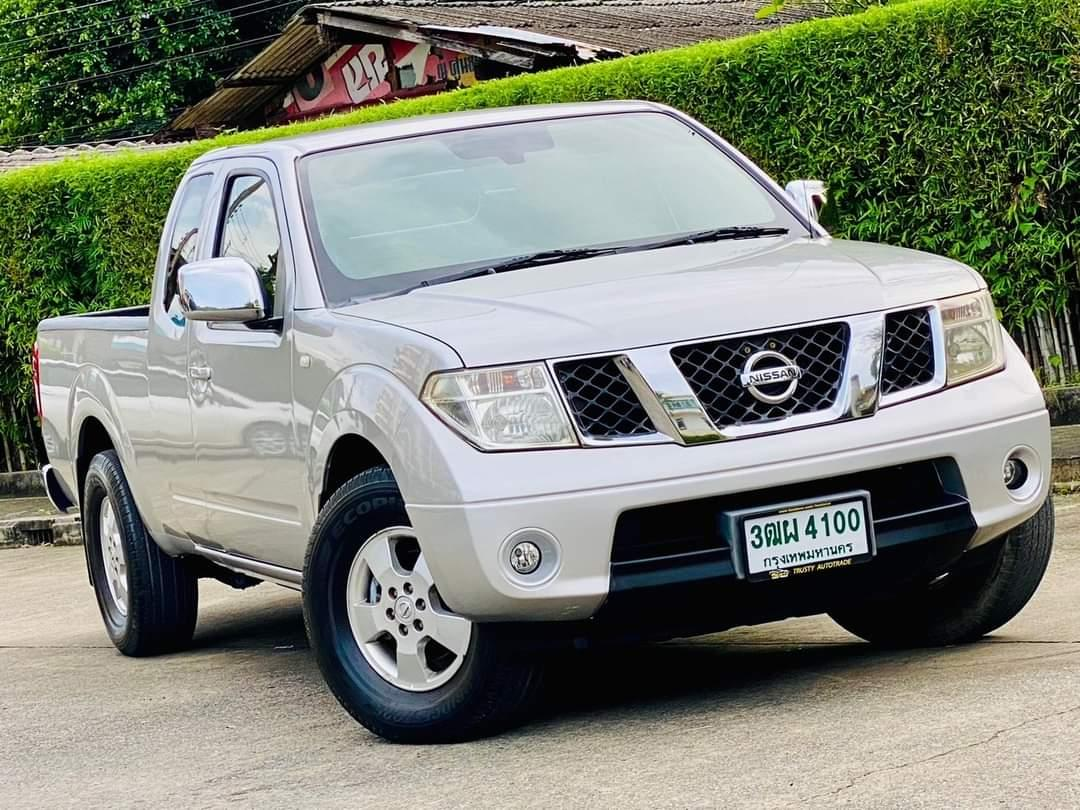license-plate: (726, 491, 880, 583)
